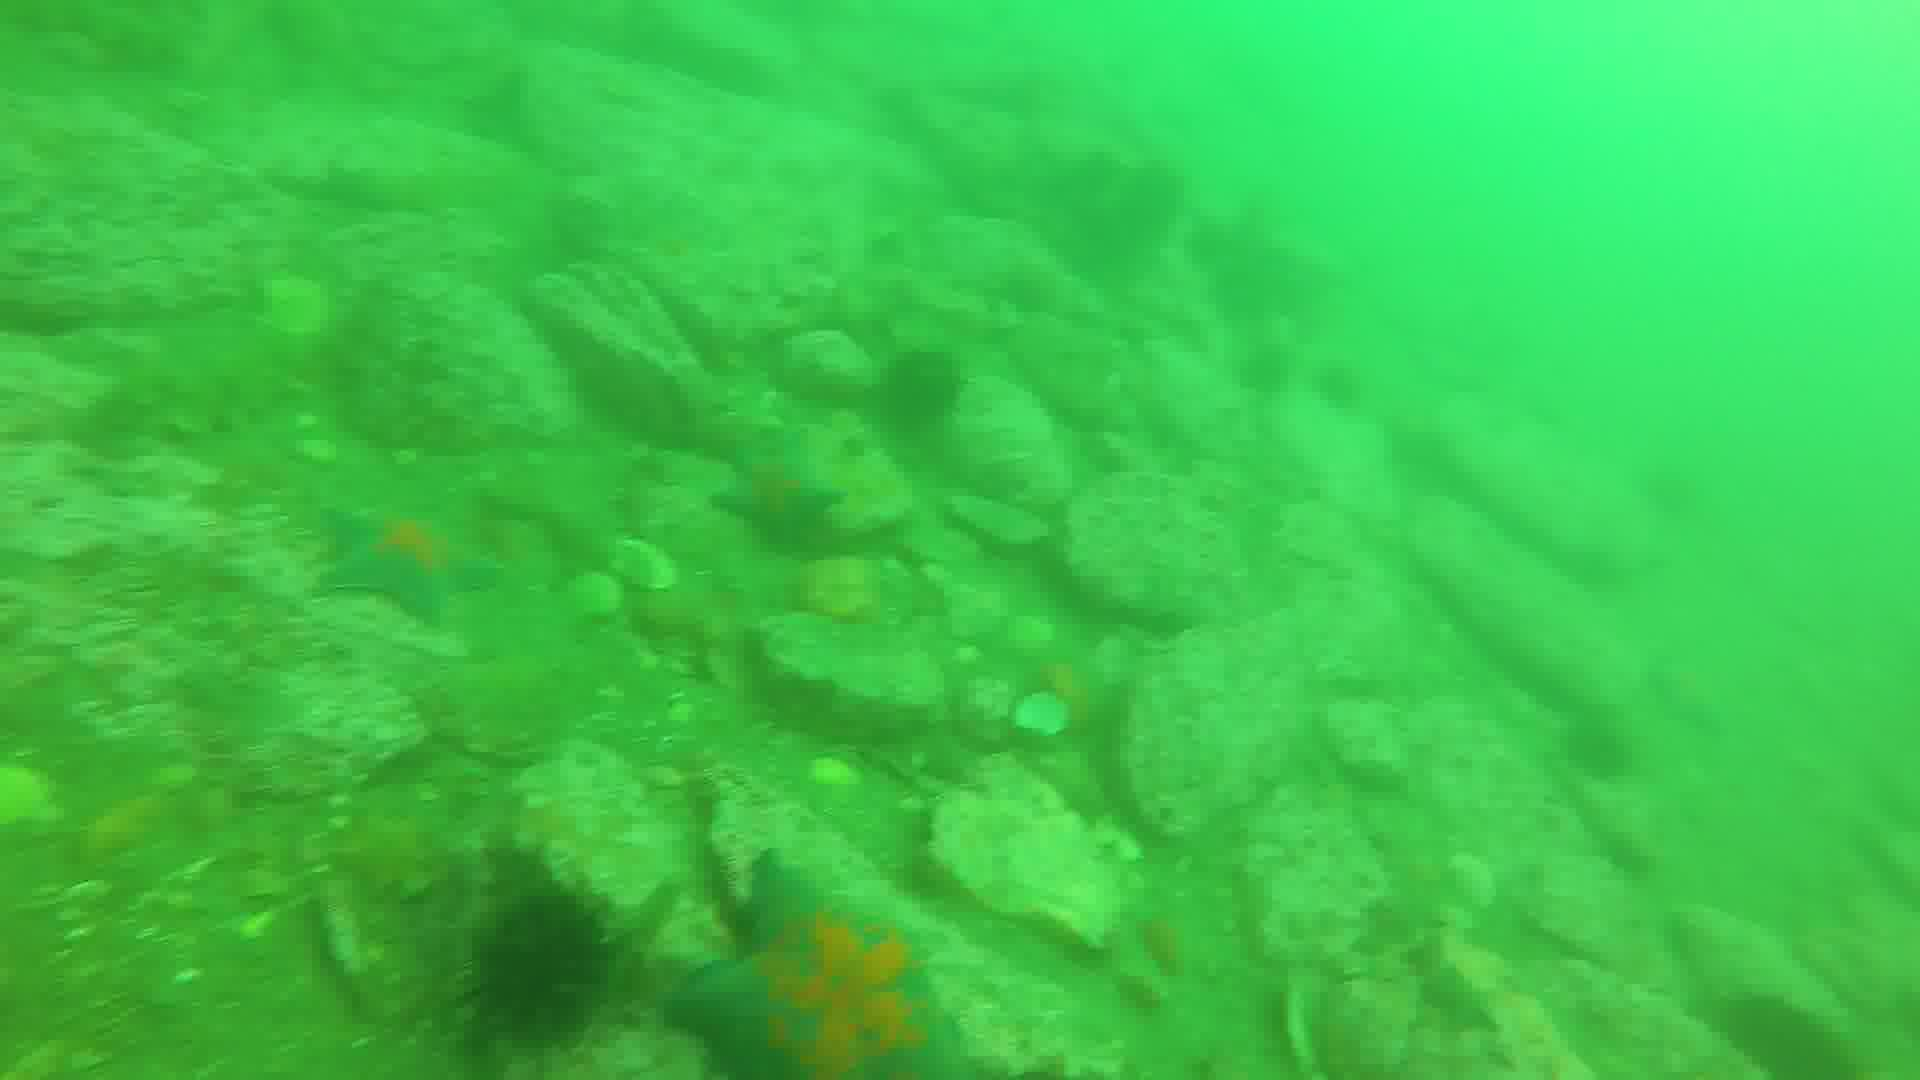echinus: (465, 881, 618, 1052), (887, 352, 975, 426)
scallop: (603, 524, 683, 604), (1004, 680, 1073, 758)
starfish: (669, 858, 967, 1080), (319, 501, 505, 632), (1196, 182, 1342, 342), (727, 433, 847, 556)
